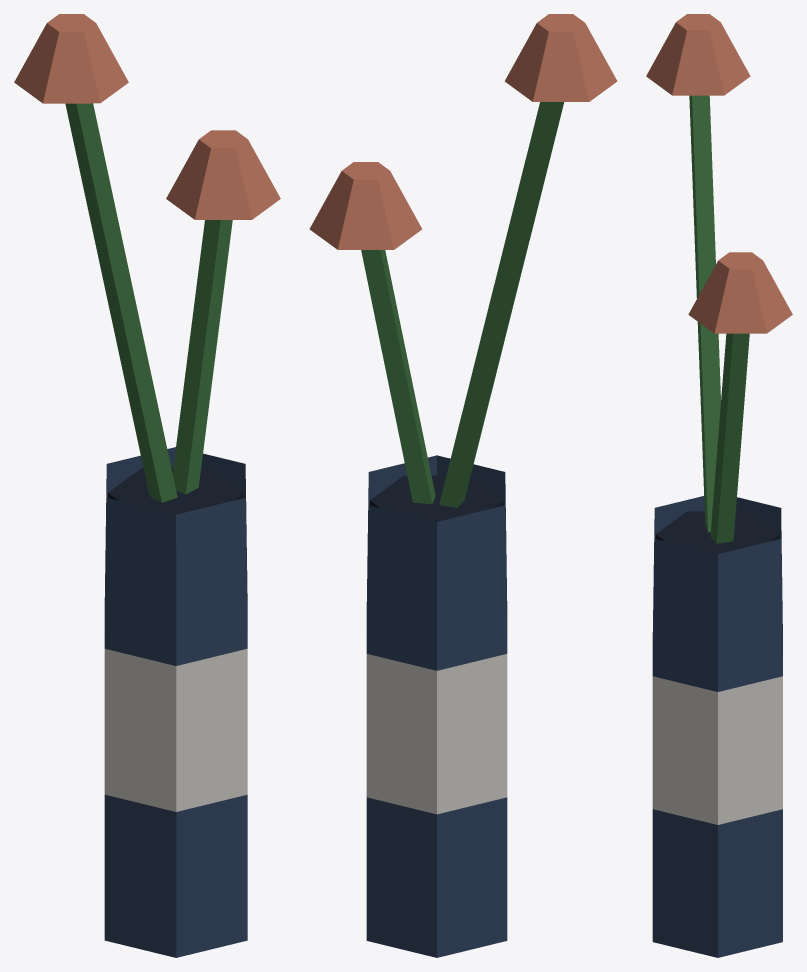
Rendered from vase-08.glb.
The picture shows the model from 3 angles, left to right: view 1: azimuth 30°, elevation 25°; view 2: azimuth 150°, elevation 25°; view 3: azimuth 270°, elevation 25°; orthographic projection. The views are drawn at different scales.
Parts seen in each view (by area): view 1: vase_08; view 2: vase_08; view 3: vase_08.
Part boxes in pixels (<box>): vase_08: <box>14,14,280,957</box>; vase_08: <box>309,14,617,957</box>; vase_08: <box>646,14,792,957</box>.
Size of the model in its own units: 0.1839 by 0.6294 by 0.0983.
